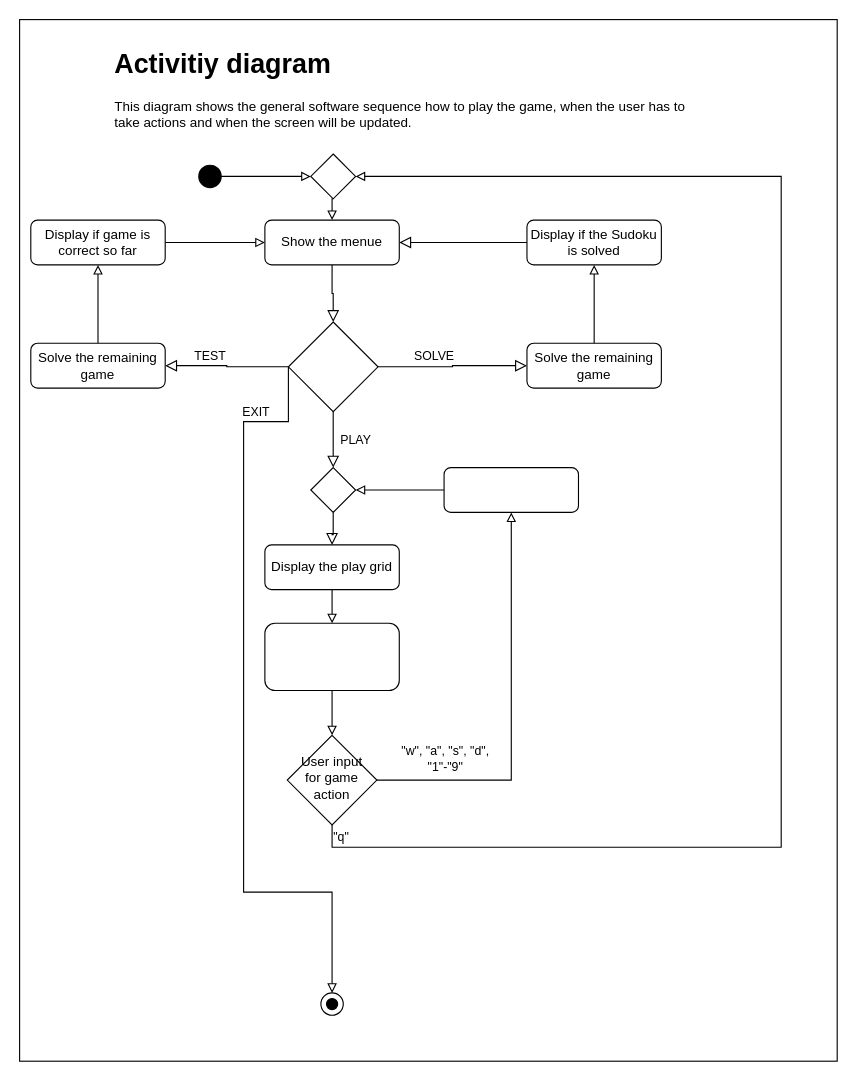
This 857x1081 diagram has some shape labels left out. The shapes that lost their labels are listed below. From the top down, each one's centre as x and y in pixels, then its label:
[332,366]: User Selection for mode
[510,489]: Adapt the play grid
[331,656]: Ask for user interaction
